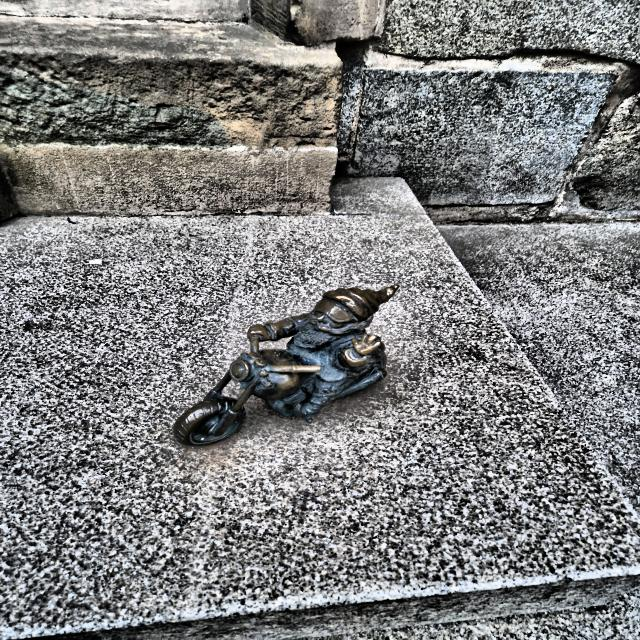Wentyl: (175, 285, 398, 445)
